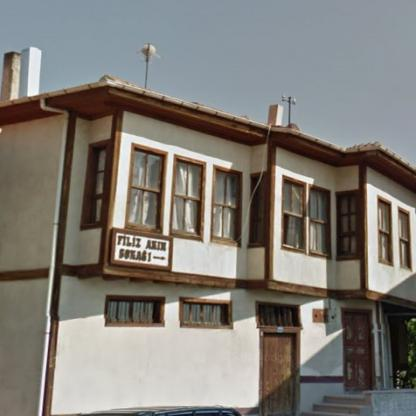door: (263, 334, 292, 413), (344, 313, 370, 389)
window: (127, 149, 162, 228), (172, 160, 202, 233), (212, 169, 237, 240), (90, 146, 107, 222), (284, 180, 301, 247), (310, 188, 327, 254), (339, 195, 357, 255), (109, 300, 155, 322), (250, 176, 264, 242), (182, 303, 224, 323), (258, 305, 294, 326), (379, 200, 390, 261), (399, 209, 409, 266)
